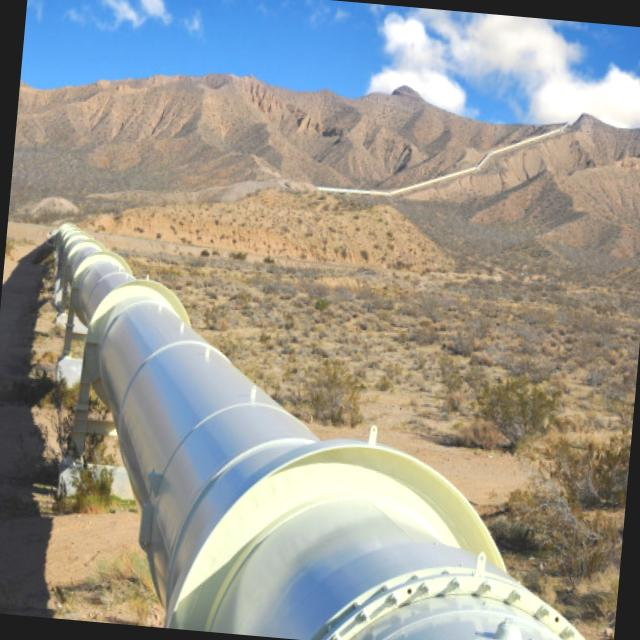gas: (116, 400, 630, 640), (71, 290, 294, 420), (28, 216, 139, 290), (480, 116, 570, 170), (392, 156, 482, 204), (311, 176, 398, 198)
